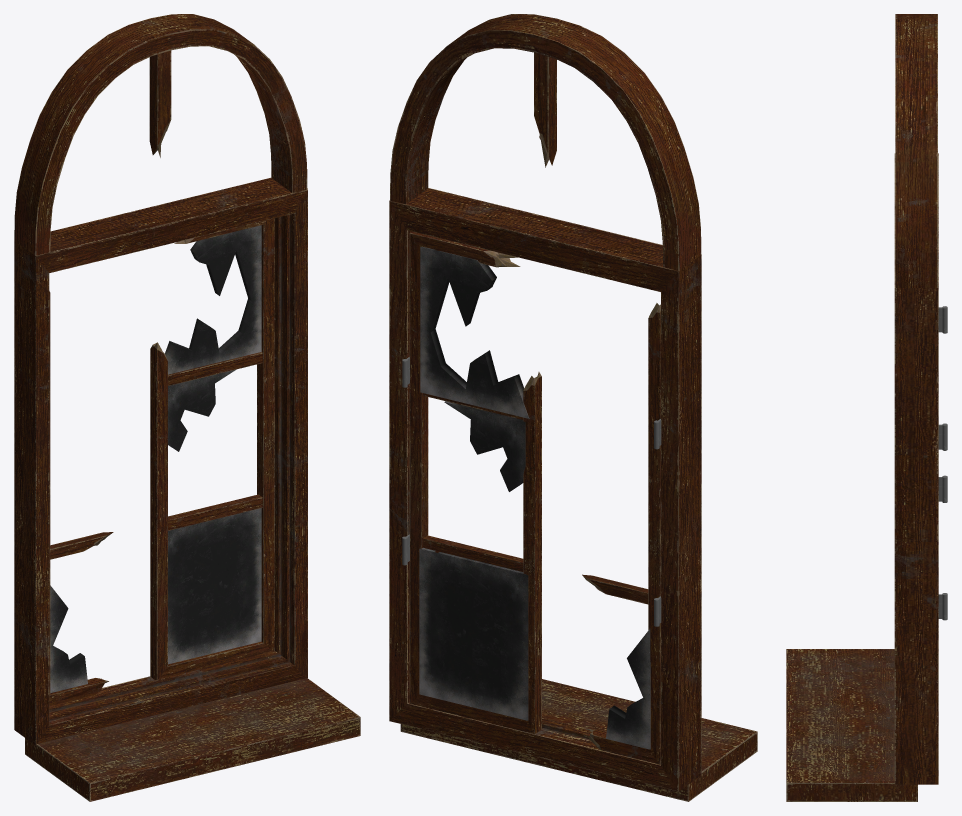
The model's file is sm21_028_brokenwindow02a.fbx.
The picture shows the model from 3 angles, left to right: view 1: azimuth 30°, elevation 25°; view 2: azimuth 150°, elevation 25°; view 3: azimuth 270°, elevation 25°; orthographic projection. The views are drawn at different scales.
Visible parts, largest first — view 1: LOD_1_Group_0_Sub_1__st2_police1fLeftWindow01, LOD_1_Group_1_Sub_1__st2_police1fLeftWindow01_G; view 2: LOD_1_Group_0_Sub_1__st2_police1fLeftWindow01, LOD_1_Group_1_Sub_1__st2_police1fLeftWindow01_G; view 3: LOD_1_Group_0_Sub_1__st2_police1fLeftWindow01.
Part boxes in pixels (x1,y1,x2,y2): LOD_1_Group_0_Sub_1__st2_police1fLeftWindow01: (14,14,360,801); LOD_1_Group_1_Sub_1__st2_police1fLeftWindow01_G: (50,225,261,692); LOD_1_Group_0_Sub_1__st2_police1fLeftWindow01: (389,14,757,801); LOD_1_Group_1_Sub_1__st2_police1fLeftWindow01_G: (419,246,650,749); LOD_1_Group_0_Sub_1__st2_police1fLeftWindow01: (786,14,947,801).
Size of the model in its own units: 90.43 by 221 by 45.78.
